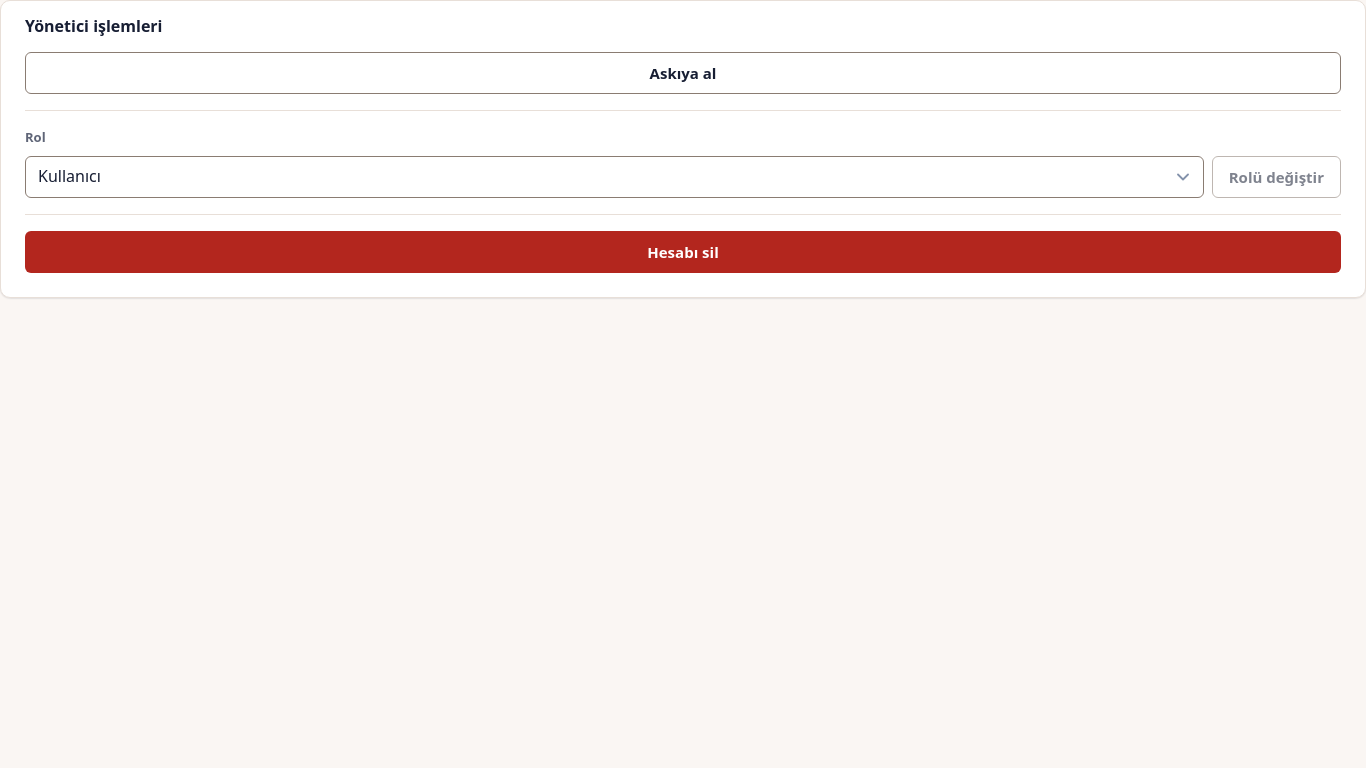
Test: UserActions › askıya alma: neden zorunlu, onaydan sonra POST gider ve toast gösterilir
This screenshot has width=1366, height=768.
Click the button "Askıya al": (683, 73) x1=25 y1=52 x2=1341 y2=94
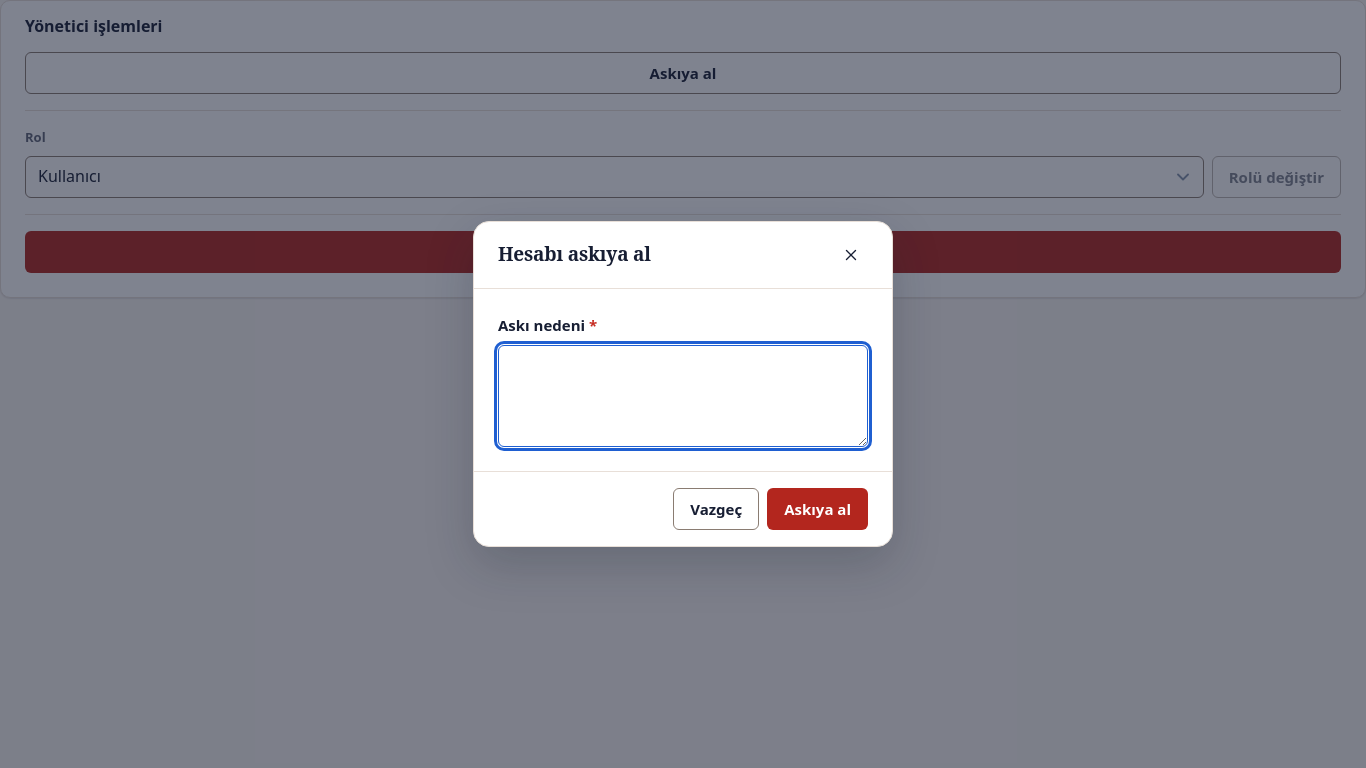
Click the button "Askıya al": (818, 509) x1=767 y1=488 x2=868 y2=530
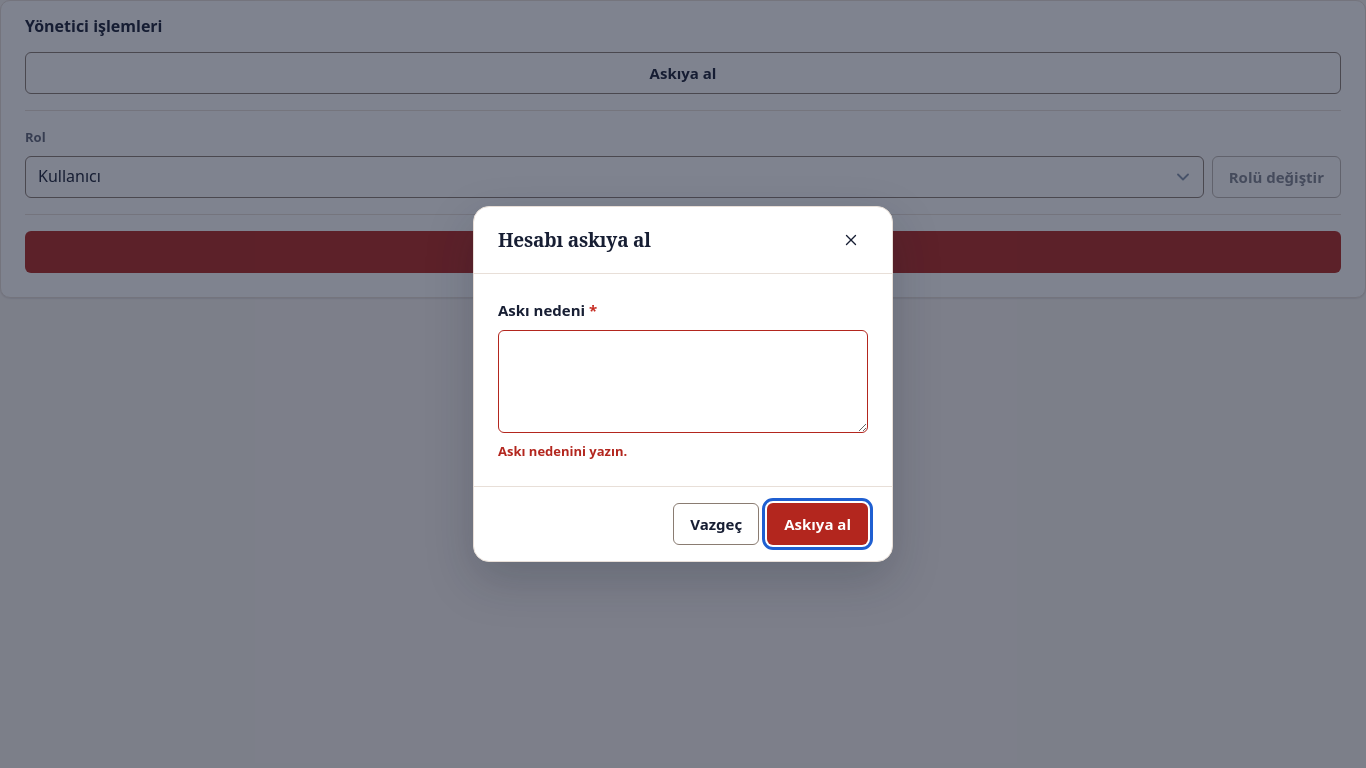
Expected: the text "Askı nedenini yazın." is shown, x1=498 y1=442 x2=627 y2=460
In the text box: (683, 382) x1=498 y1=330 x2=868 y2=433, type "Spam"
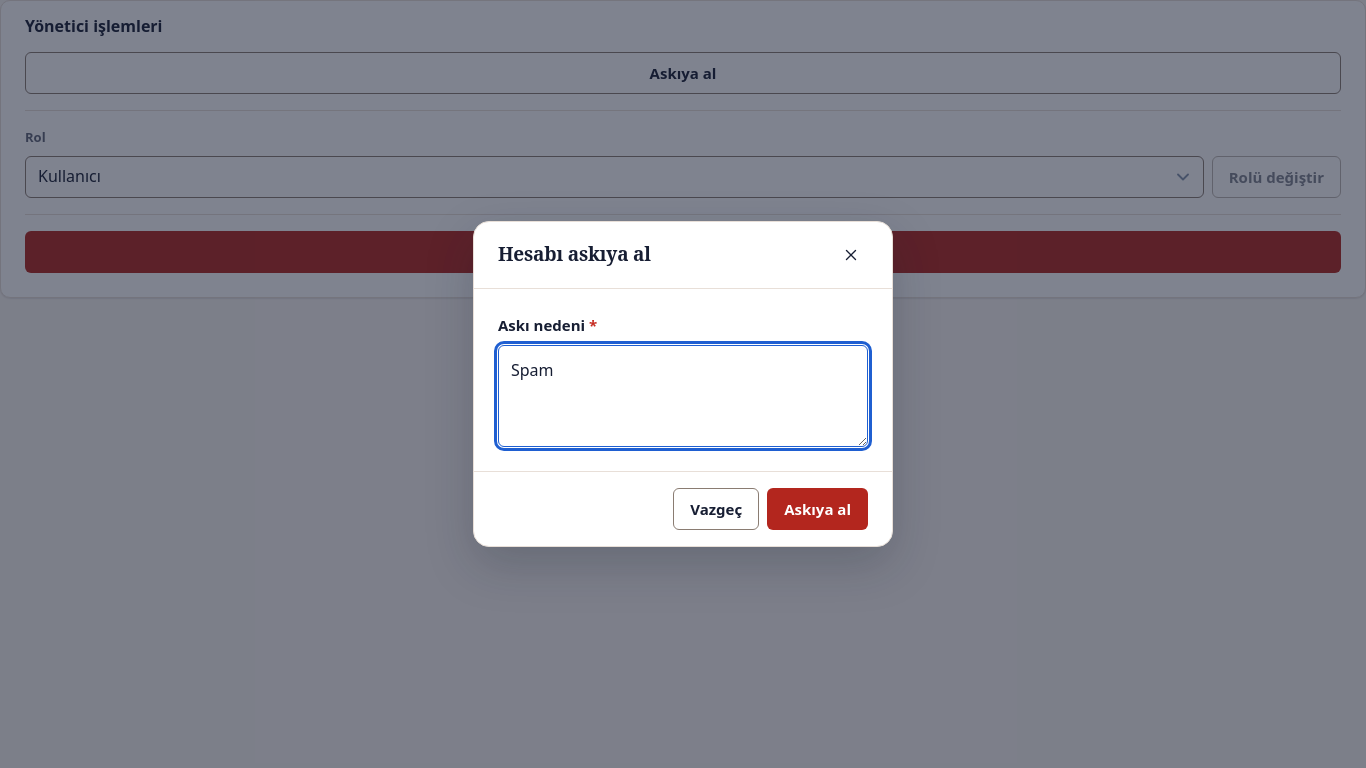
Click the button "Askıya al": (818, 509) x1=767 y1=488 x2=868 y2=530
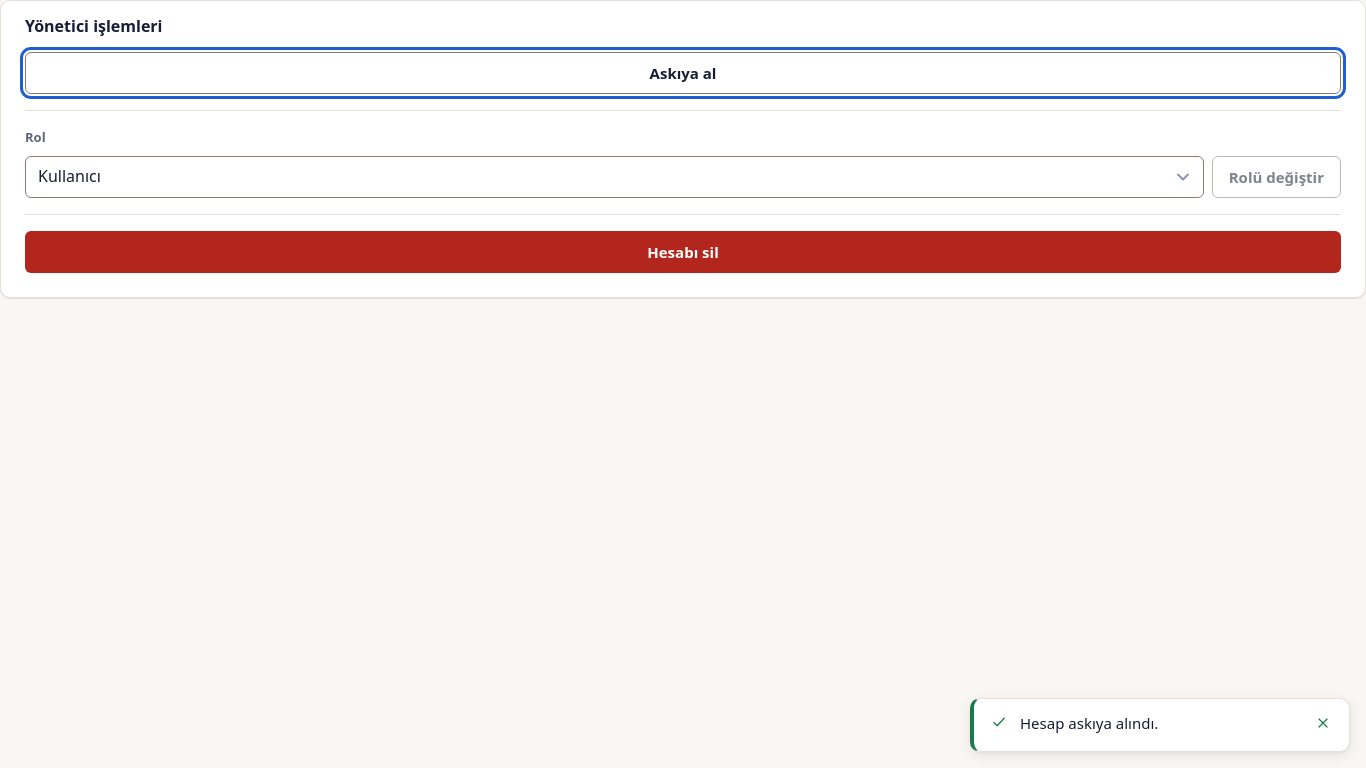
Expected: the text "Hesap askıya alındı." is shown, x1=1020 y1=713 x2=1158 y2=733
